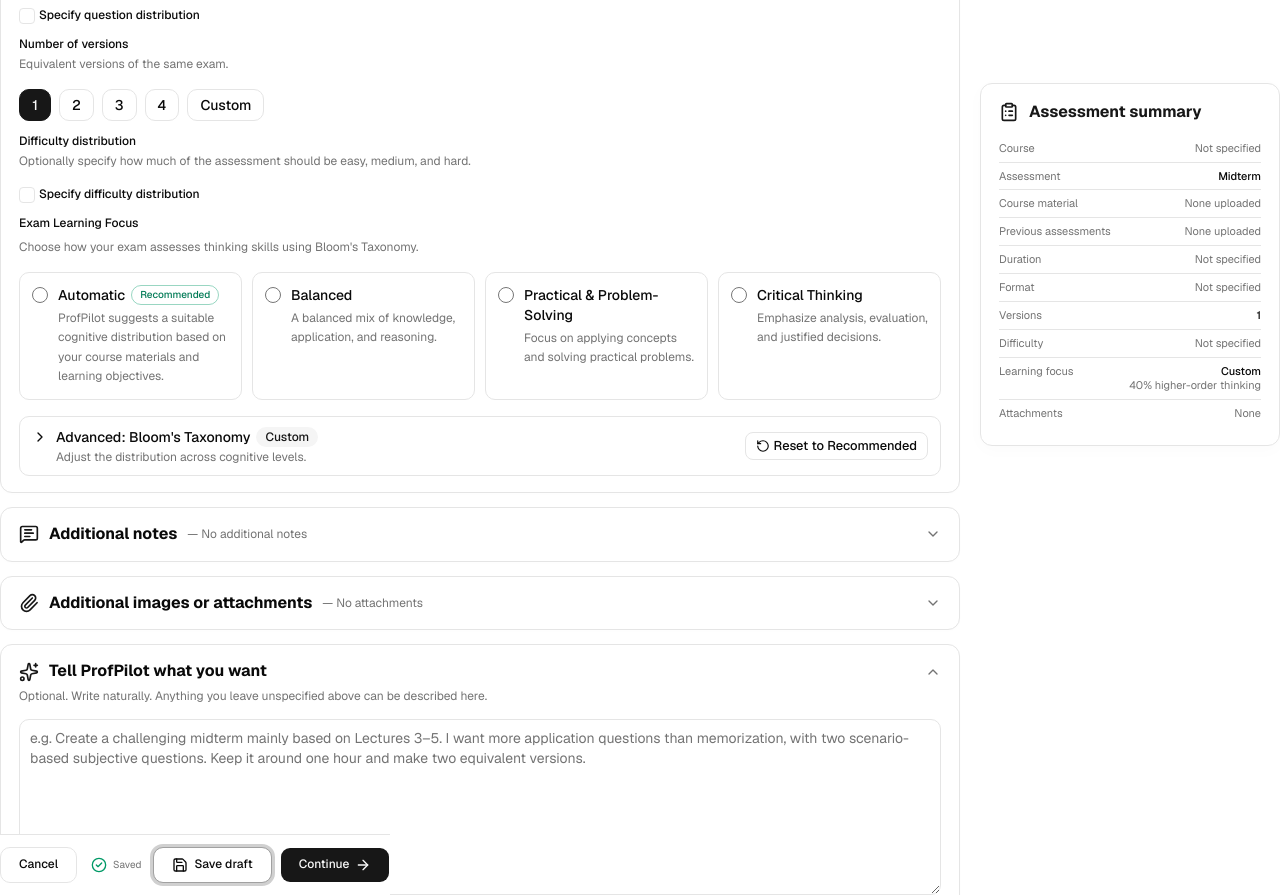
a saved custom split reopens as it was, and survives switching to a preset and back
(page scrolled)
Check: the text "Custom" below "Format" is shown, box top-left (1221, 364), bottom-right (1261, 378)
What coordinates should you click on to do the following:
click the button "Advanced: Bloom's Taxonomy"
I would click on:
 (175, 446)
Its box is top-left (32, 427), bottom-right (318, 465).
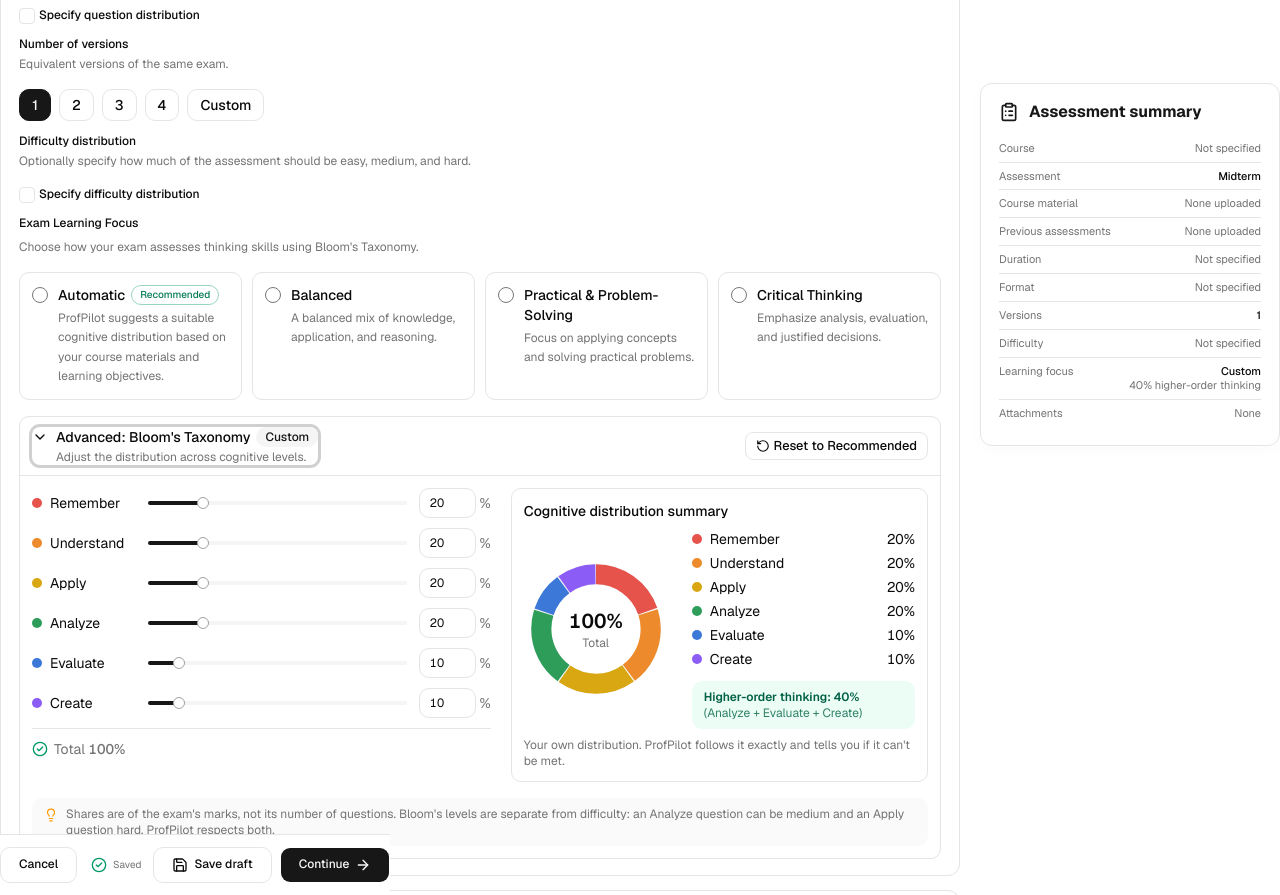
Check: the number field labelled "Understand" holds "20", box top-left (419, 528), bottom-right (476, 558)
What coordinates should you click on to do the following:
click the radio button labelled "Balanced"
I would click on:
 (273, 295)
Its box is top-left (265, 287), bottom-right (281, 303).
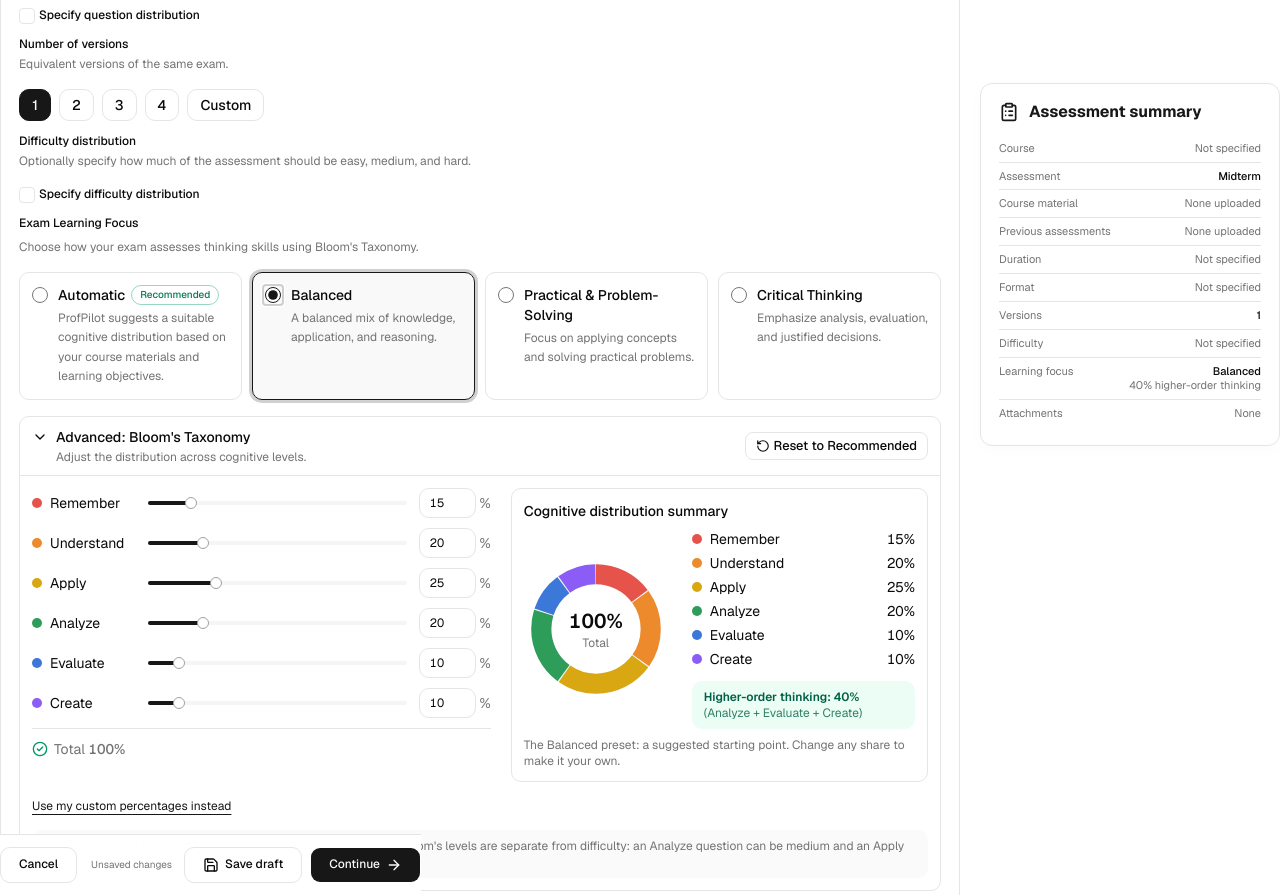
Check: the number field labelled "Understand" holds "20", box top-left (419, 528), bottom-right (476, 558)
What coordinates should you click on to do the following:
click the button "Use my custom percentages instead"
I would click on:
 (132, 806)
Its box is top-left (32, 798), bottom-right (231, 814).
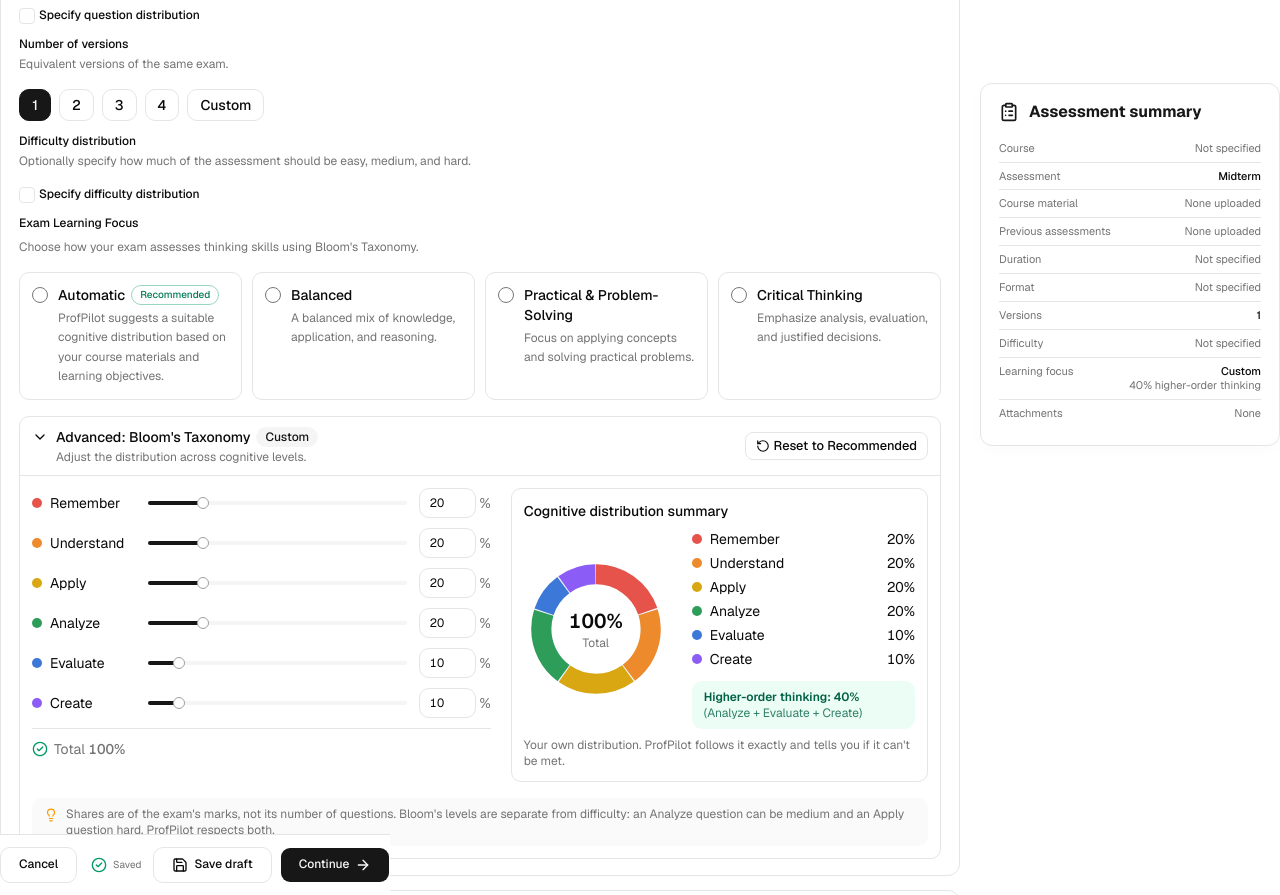
Check: the number field labelled "Understand" holds "20", box top-left (419, 528), bottom-right (476, 558)
What coordinates should you click on to do the following:
click the button "Reset to Recommended"
I would click on:
 (836, 446)
Its box is top-left (745, 432), bottom-right (928, 460).
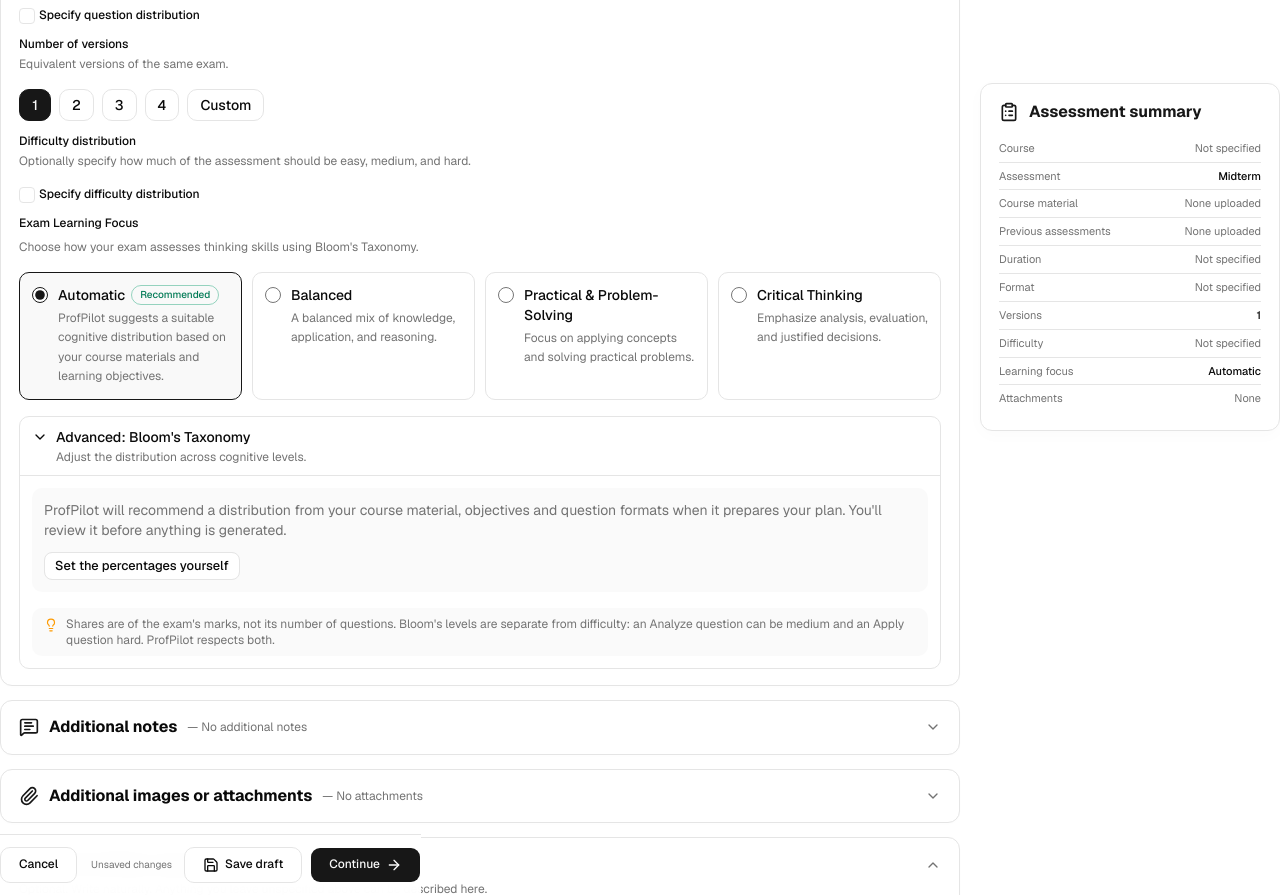
Check: the radio button labelled "Automatic" is checked, box top-left (32, 287), bottom-right (48, 303)
